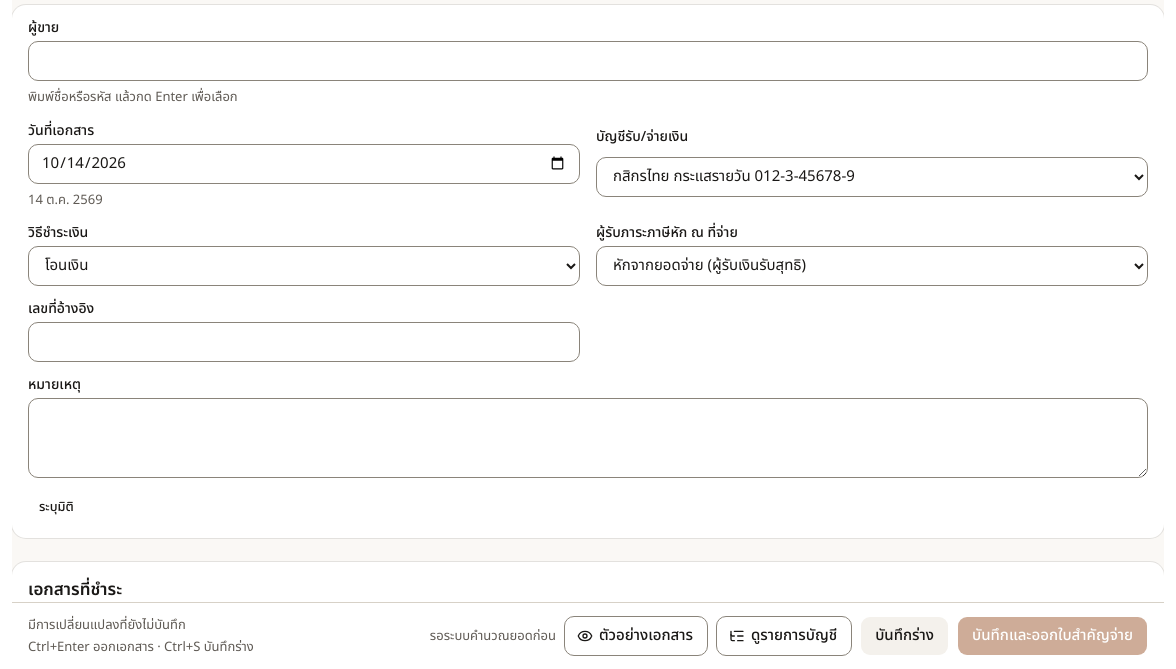
Test: DocEditor: payment voucher with withholding › category and WHT columns show for a vendor; 5,000.00 with SVC deduct => WHT 150.00, net payment 4,850.00 (server figures), and Deduct is the shown default
Type "ภูพาน" into the dropdown labelled "ผู้ขาย" at (588, 61), box [28, 41, 1148, 81]
Then press Enter
(page scrolled)
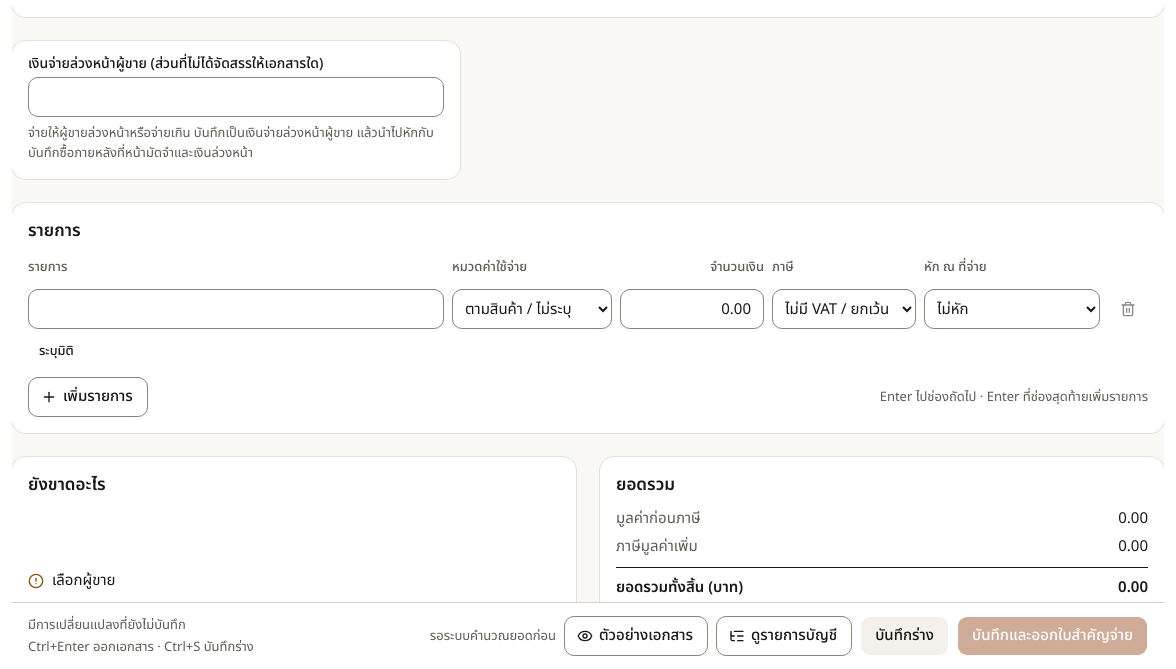
Type "ค่าถ่ายภาพ" into the dropdown named "รายการ 1" at (236, 309), box [28, 289, 444, 329]
(page scrolled)
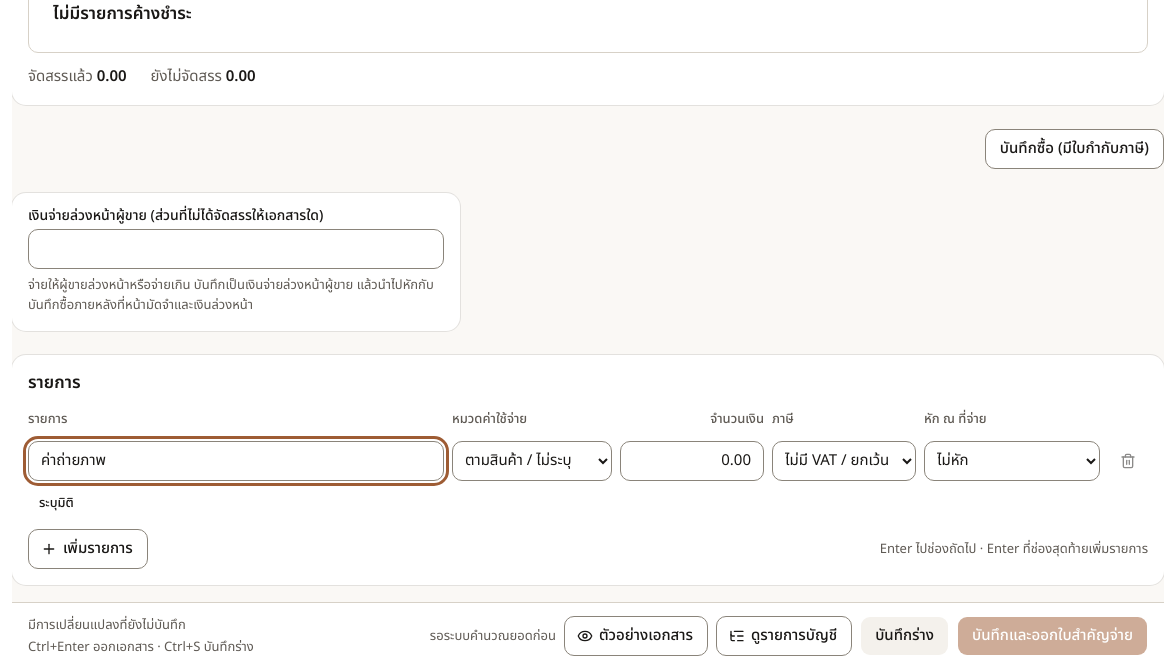
Expected: the dropdown named "หมวดค่าใช้จ่ายรายการ 1" is shown, [452, 441, 612, 481]
Replace the text in the field named "จำนวนเงินรายการ 1" with "5000" at (692, 461), box [620, 441, 764, 481]
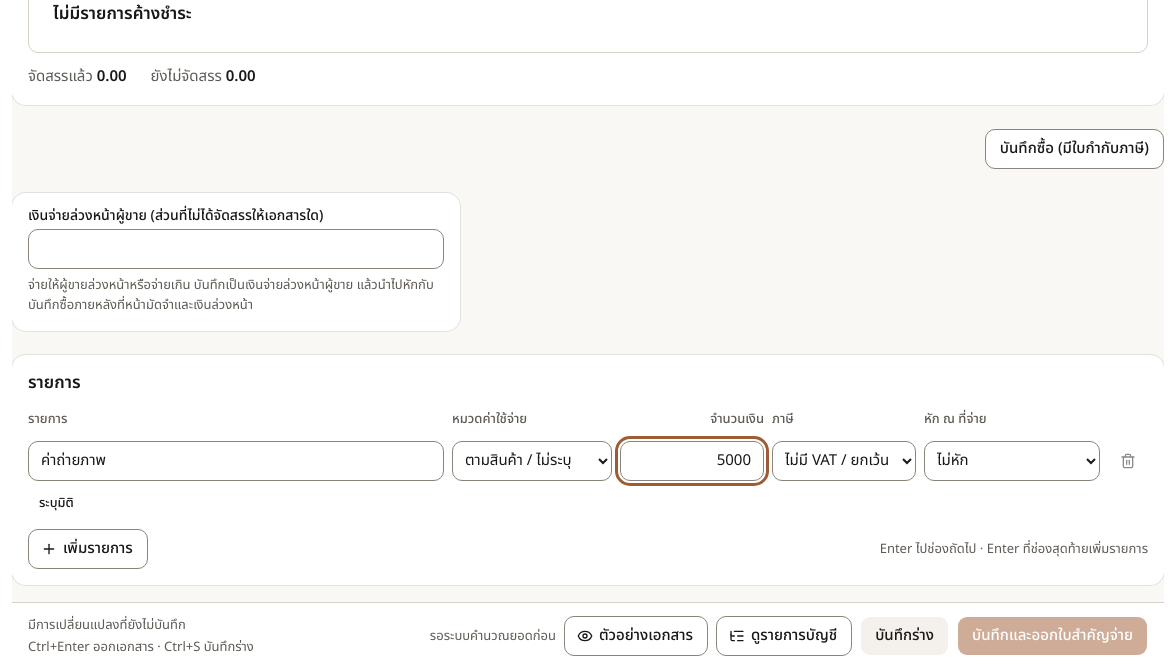
Select "ไม่มี VAT / ยกเว้น" in the dropdown named "ภาษีรายการ 1" at (844, 461), box [772, 441, 916, 481]
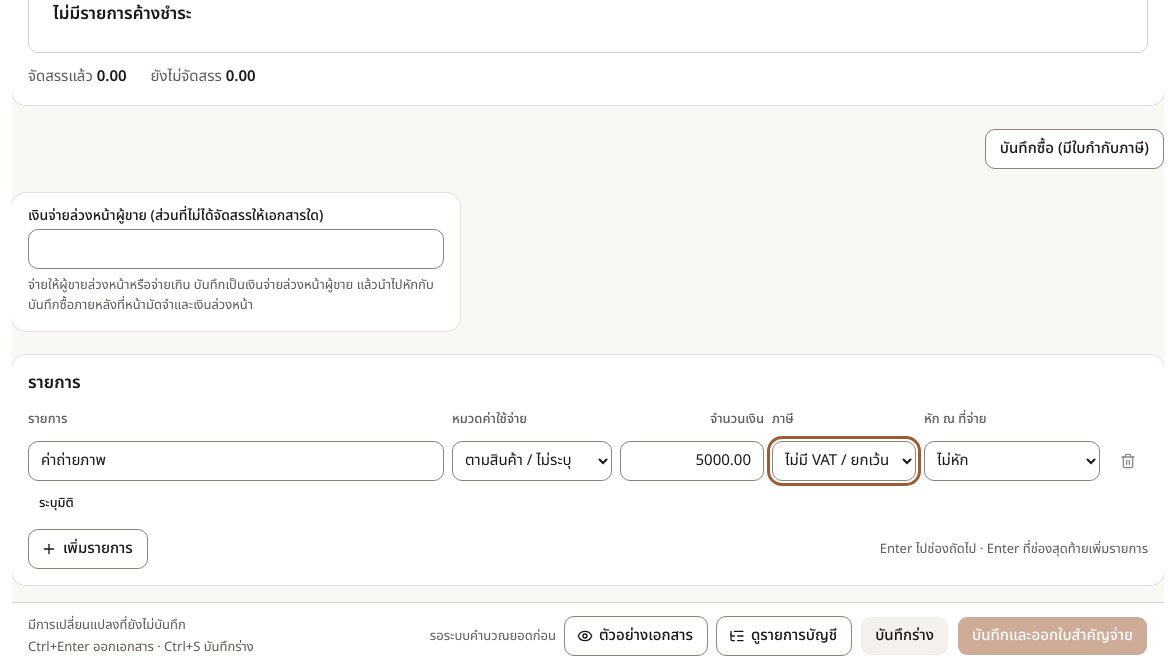
Select "ค่าบริการ 3%" in the dropdown named "หัก ณ ที่จ่ายรายการ 1" at (1012, 461), box [924, 441, 1100, 481]
(page scrolled)
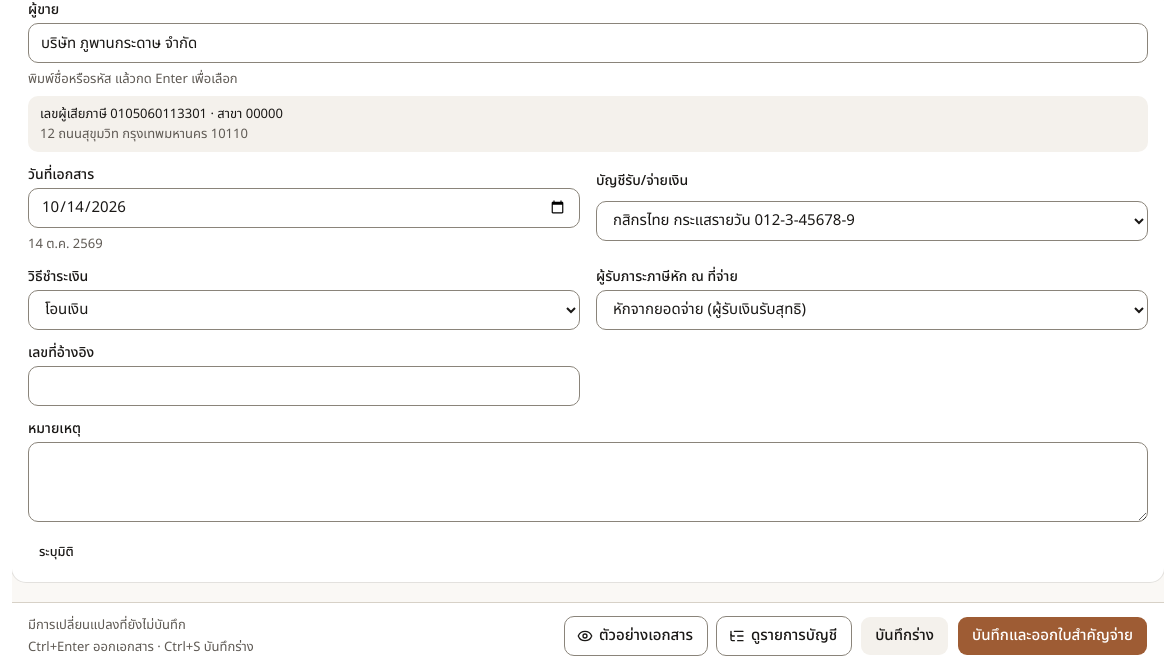
Select "เราออกภาษีให้ (คำนวณบนยอดที่รวมภาษีแล้ว)" in the dropdown labelled "ผู้รับภาระภาษีหัก ณ ที่จ่าย" at (872, 310), box [596, 290, 1148, 330]
(page scrolled)
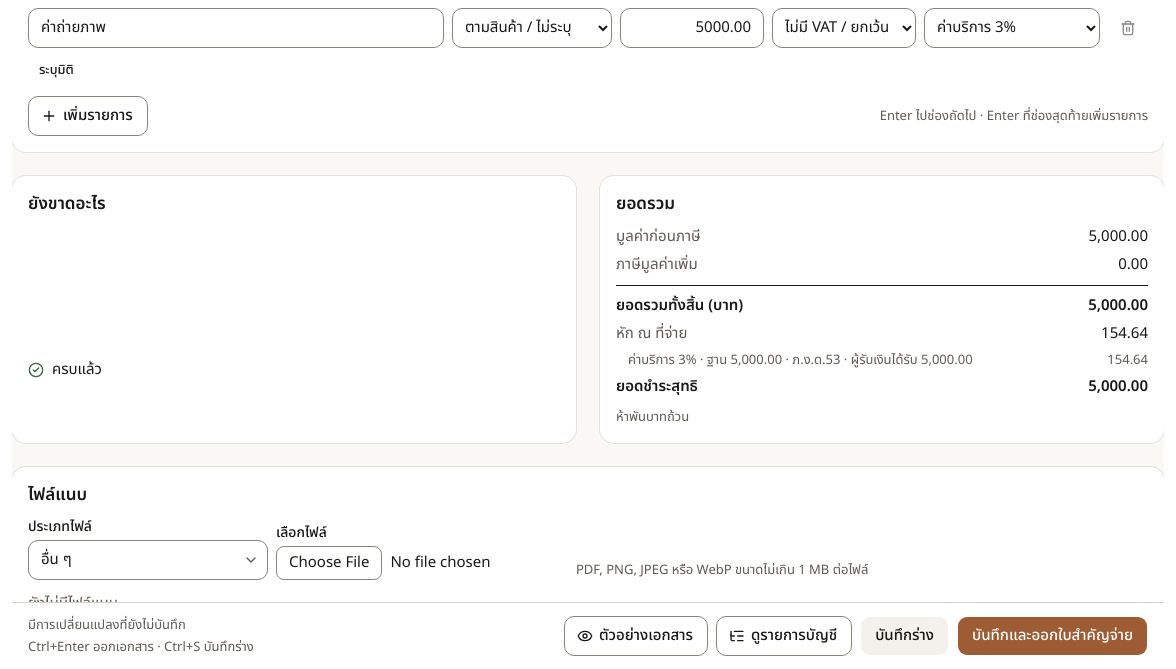
Now the text "5,000.00" in the row of "ยอดชำระสุทธิ" is shown, box [1088, 374, 1148, 398]
Now the element "ยอดรวม" shows "154.64", box [1101, 322, 1148, 345]
